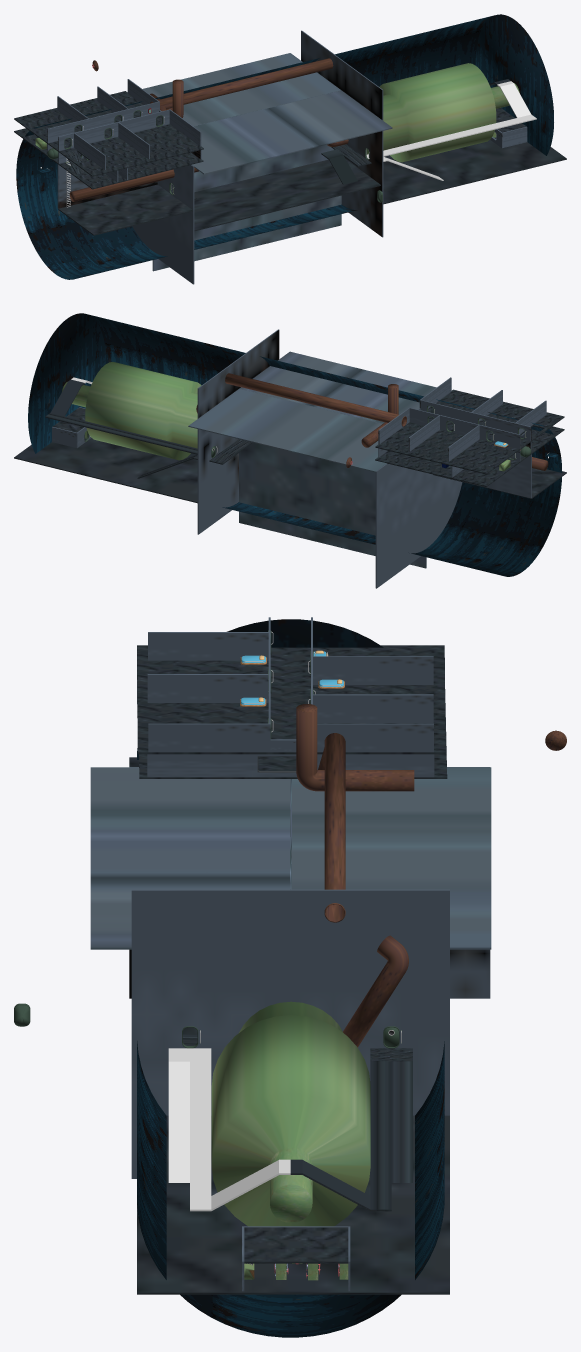
The model's file is level.glb.
The picture shows the model from 3 angles, top to bottom: view 1: azimuth 30°, elevation 25°; view 2: azimuth 150°, elevation 25°; view 3: azimuth 270°, elevation 25°; orthographic projection. The views are drawn at different scales.
Visible parts, largest first — view 1: SubBody, Netting, Engine, Floor.003, Floor.004, Floor.001, Wall.016, Floor, Wall, PipeYouSwimThrough, Gangway, Floor.002 (+13 smaller); view 2: Netting, SubBody, Engine, Wall, Floor.004, Wall.016, Floor.001, Floor.002, PipeYouSwimThrough, GangwayMirrored, Wall.001, Wall.007 (+12 smaller); view 3: Wall.016, Netting, Engine, Floor.004, SubBody, Floor.001, Gangway, GangwayMirrored, WallWithWindow, Ceiling, PipeYouSwimThrough, Wall.010 (+9 smaller).
Boxes of the visible parts, <box> form: SubBody: <box>16,14,553,279</box>; Netting: <box>143,53,392,271</box>; Engine: <box>367,63,519,162</box>; Floor.003: <box>194,159,380,231</box>; Floor.004: <box>383,137,566,204</box>; Floor.001: <box>14,91,203,176</box>; Wall.016: <box>301,30,383,237</box>; Floor: <box>58,184,193,235</box>; Wall: <box>132,165,194,284</box>; PipeYouSwimThrough: <box>150,58,333,111</box>; Gangway: <box>366,81,536,180</box>; Floor.002: <box>14,128,203,189</box>; Netting: <box>188,351,436,568</box>; SubBody: <box>28,313,562,576</box>; Engine: <box>62,362,201,460</box>; Wall: <box>375,463,462,588</box>; Floor.004: <box>14,438,197,503</box>; Wall.016: <box>197,329,279,534</box>; Floor.001: <box>375,389,564,474</box>; Floor.002: <box>375,426,564,486</box>; PipeYouSwimThrough: <box>225,373,406,426</box>; GangwayMirrored: <box>45,379,197,478</box>; Wall.001: <box>409,408,520,448</box>; Wall.007: <box>420,400,531,441</box>; Wall.016: <box>131,889,449,1178</box>; Netting: <box>90,767,491,949</box>; Engine: <box>211,1001,370,1226</box>; Floor.004: <box>137,1115,449,1294</box>; SubBody: <box>137,619,444,1337</box>; Floor.001: <box>137,645,445,754</box>; Gangway: <box>168,1048,290,1211</box>; GangwayMirrored: <box>290,1048,412,1211</box>; WallWithWindow: <box>147,754,434,777</box>; Ceiling: <box>244,1227,348,1263</box>; PipeYouSwimThrough: <box>318,733,345,922</box>; Wall.010: <box>148,723,270,752</box>.
Size of the model in its own units: 106 by 36.55 by 52.1.
Materials: 31 (11 with a texture image).
